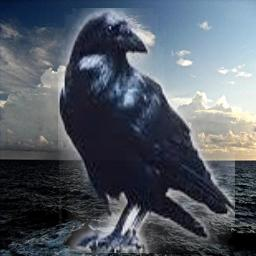Crow: (58, 8, 235, 253)
